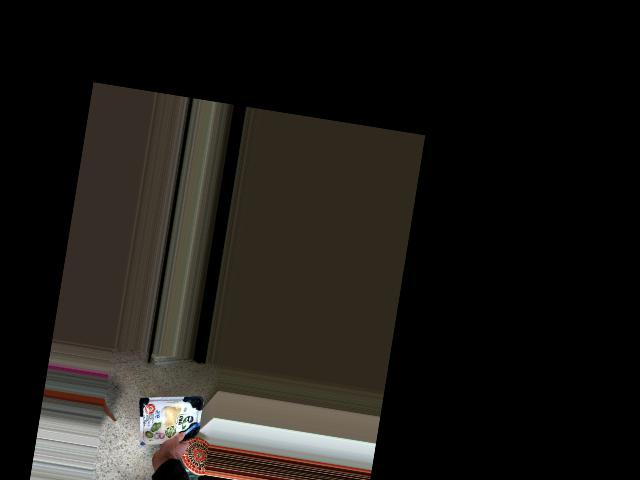cheese: (137, 404, 191, 460)
